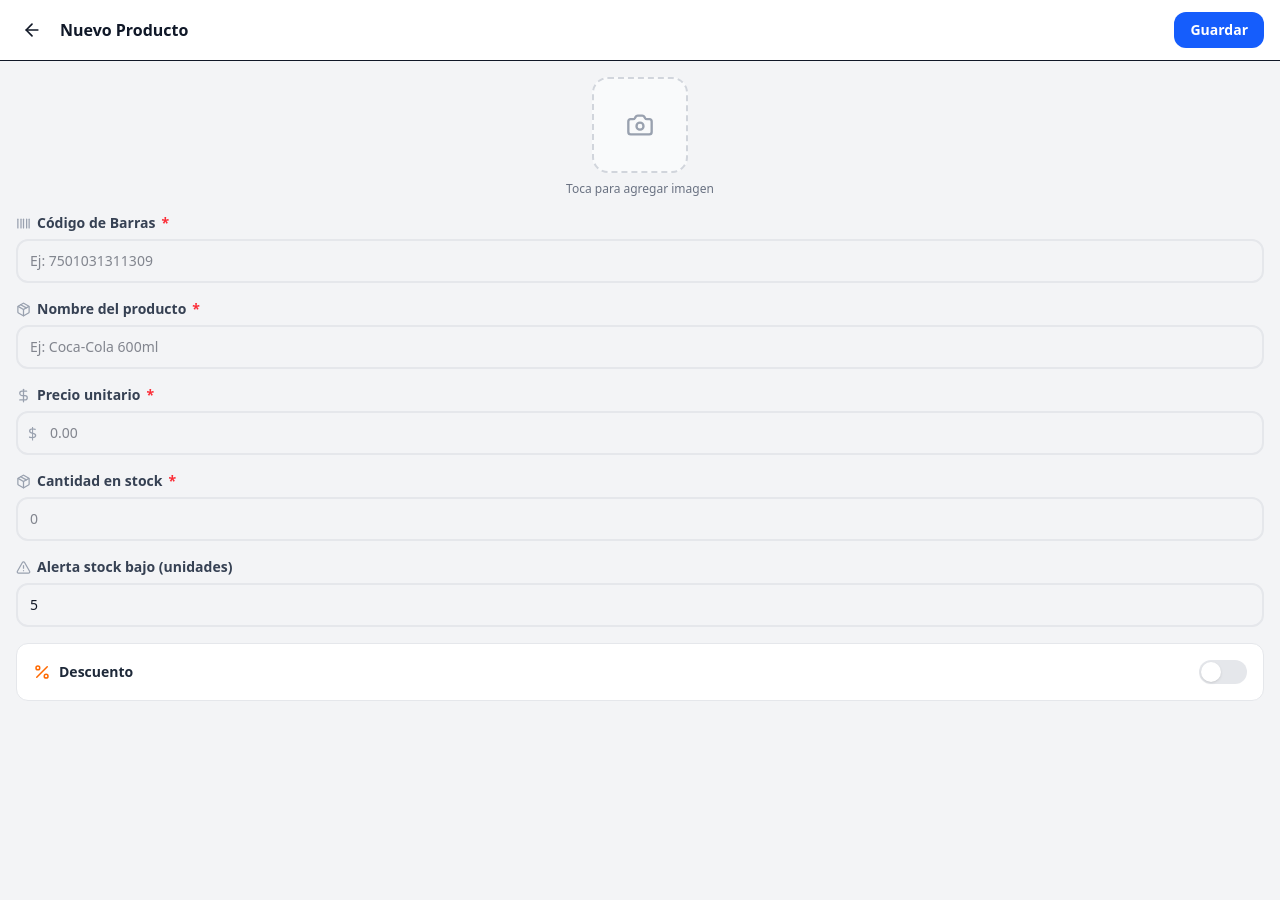
it: ProductForm — validation › shows error when price is zero on submit
In the field with placeholder "Ej: 7501031311309": (640, 261) [16, 239, 1264, 283], type "1234567890"
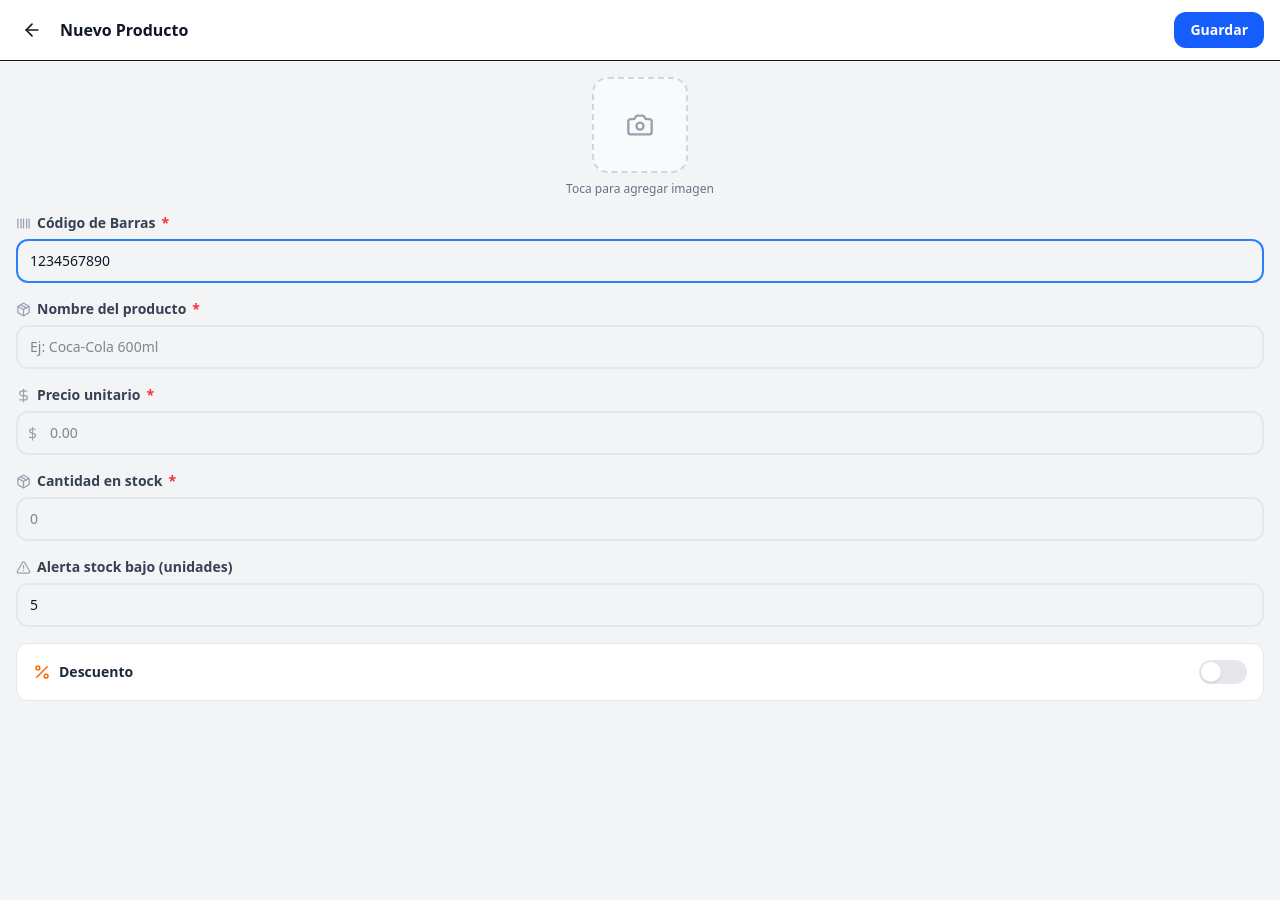
In the field with placeholder "Ej: Coca-Cola 600ml": (640, 347) [16, 325, 1264, 369], type "producto"
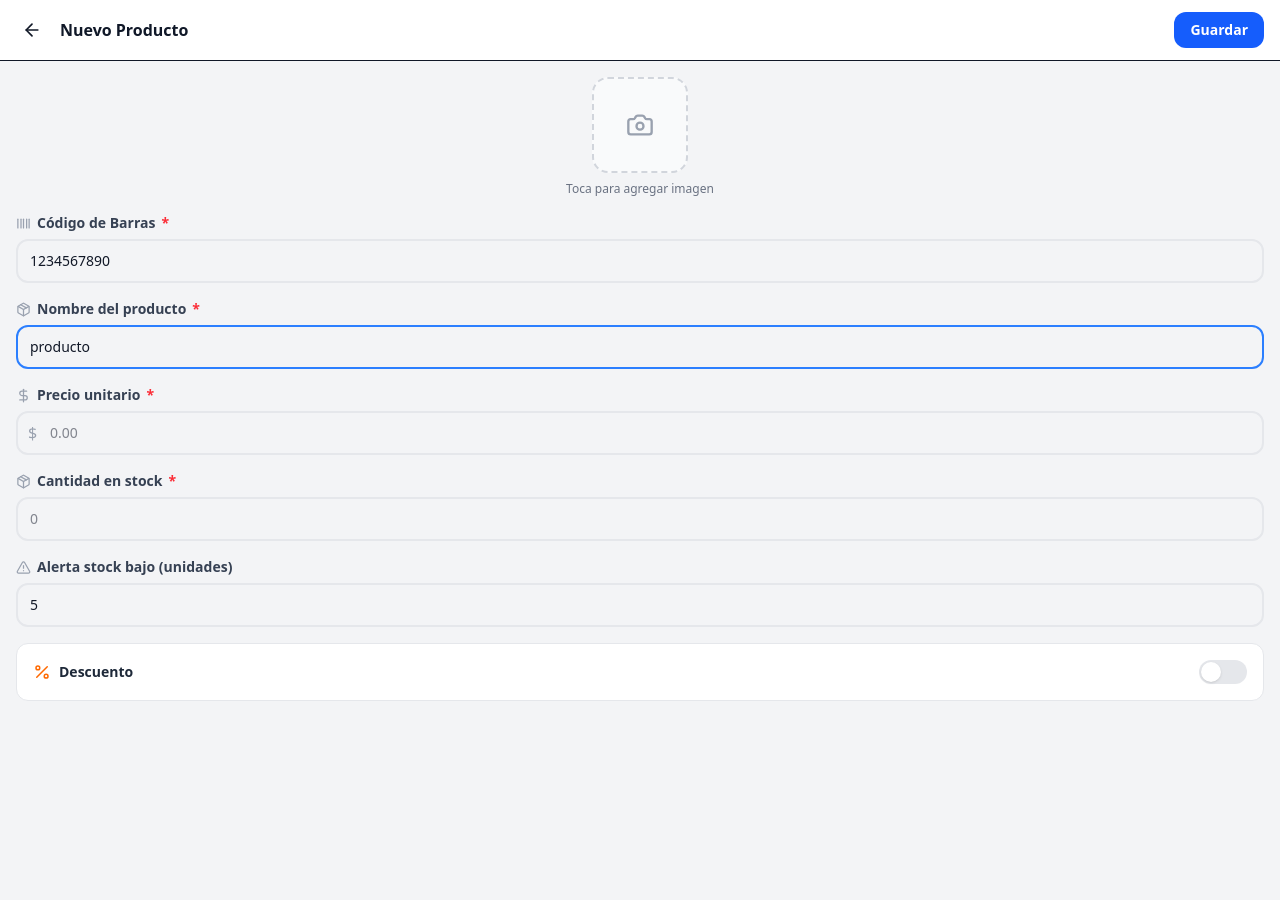
Click the button "Guardar": (1219, 30) [1174, 12, 1264, 48]
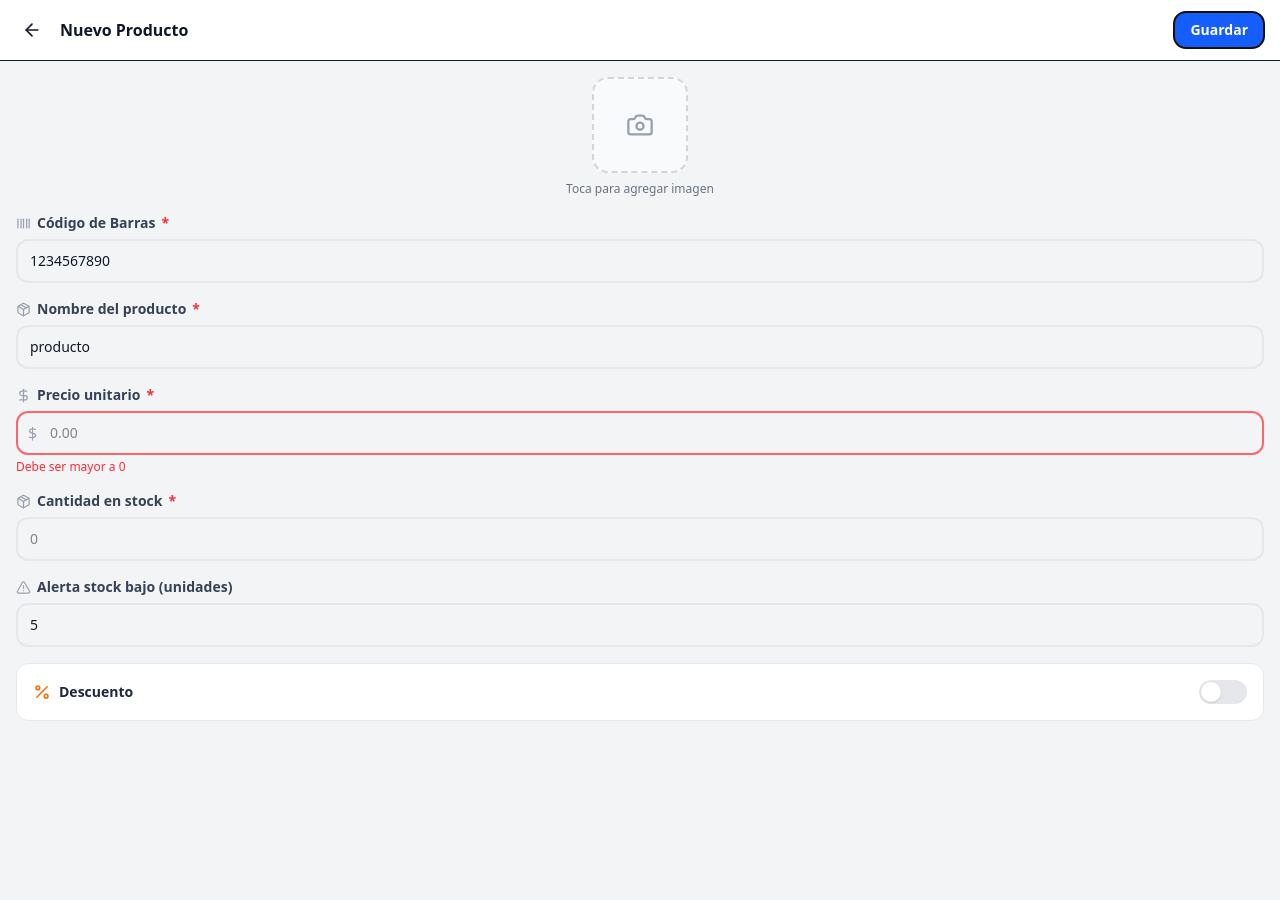
Expected: the text "Debe ser mayor a 0" is shown, [16, 458, 126, 475]
